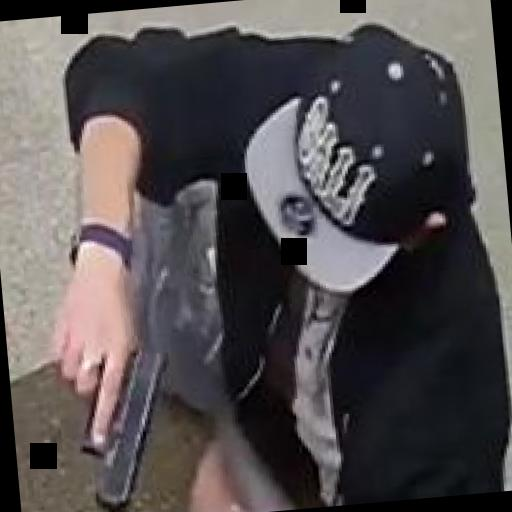Handgun: (42, 303, 179, 512)
